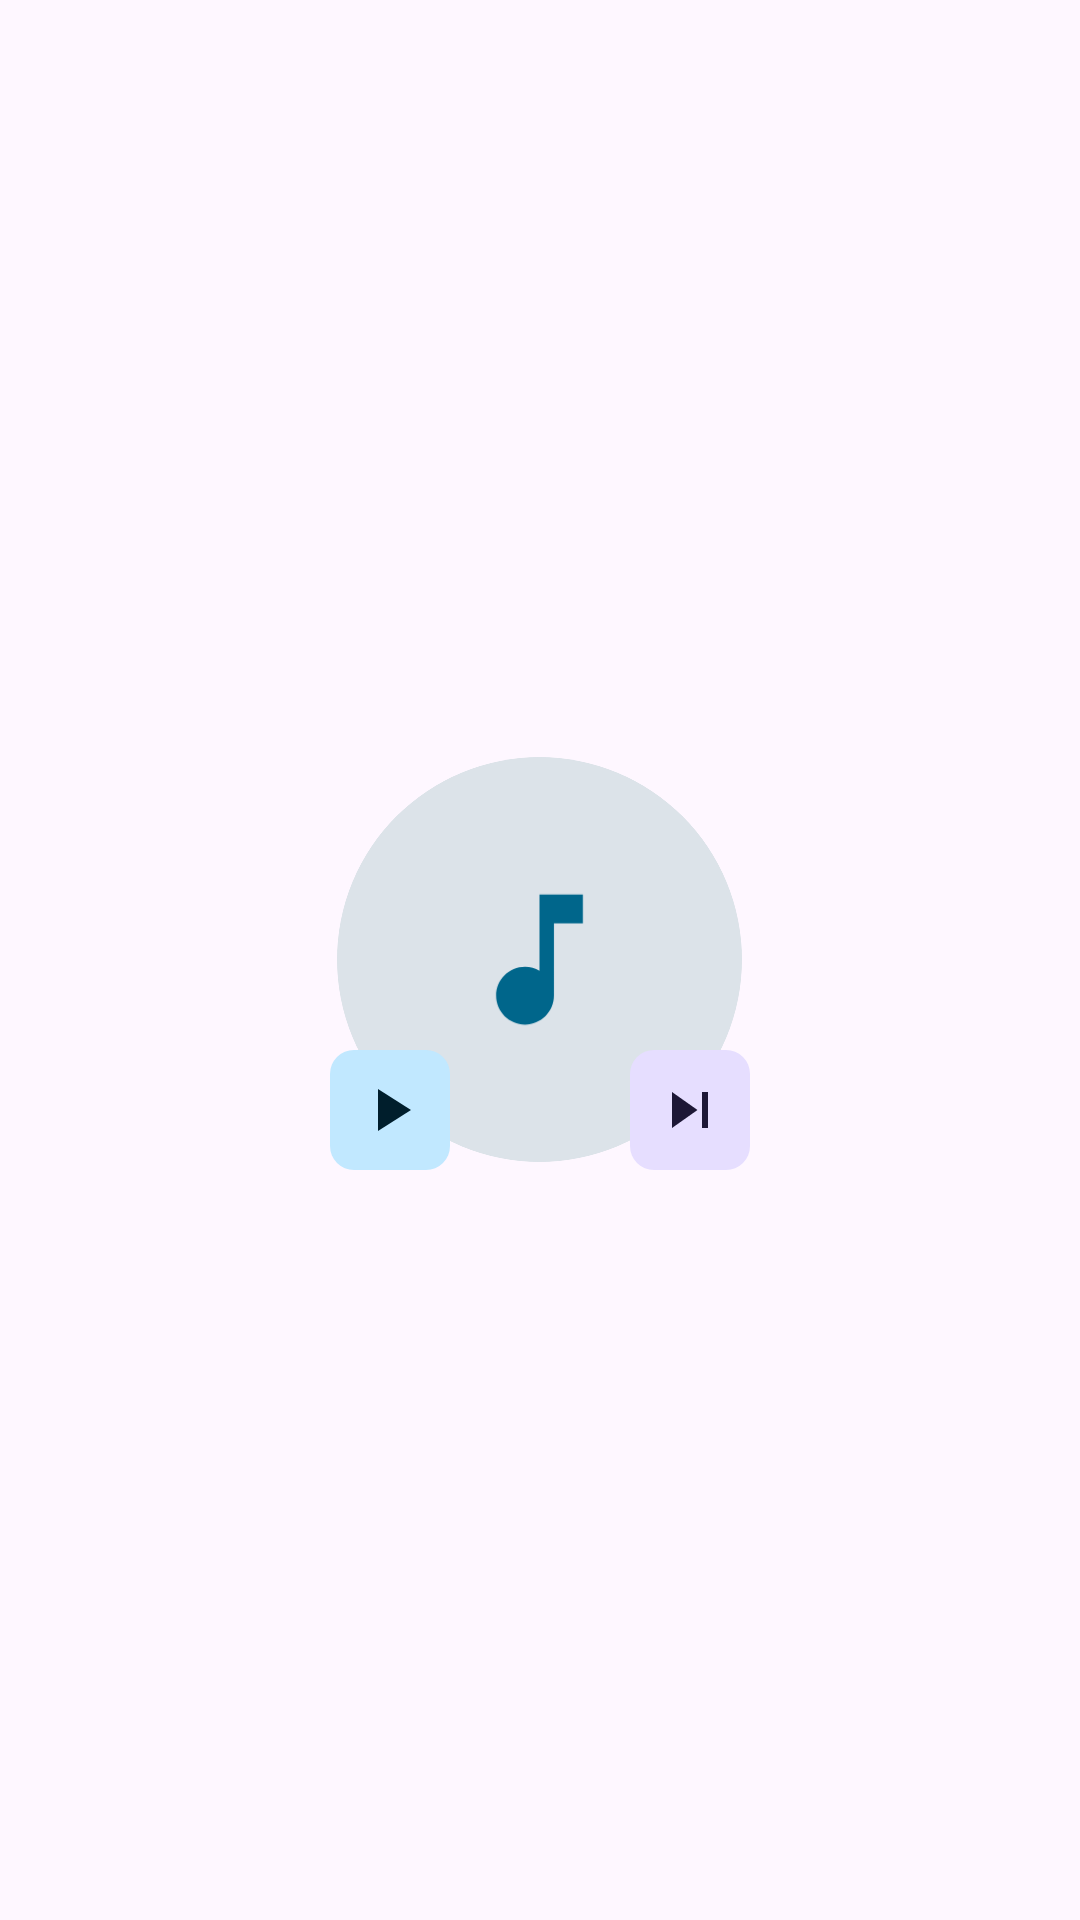

Icons on this 1080x1920 Android screen, each with the point to tap as [x,y]:
sheet next: [690,1110]
sheet play: [390,1110]
